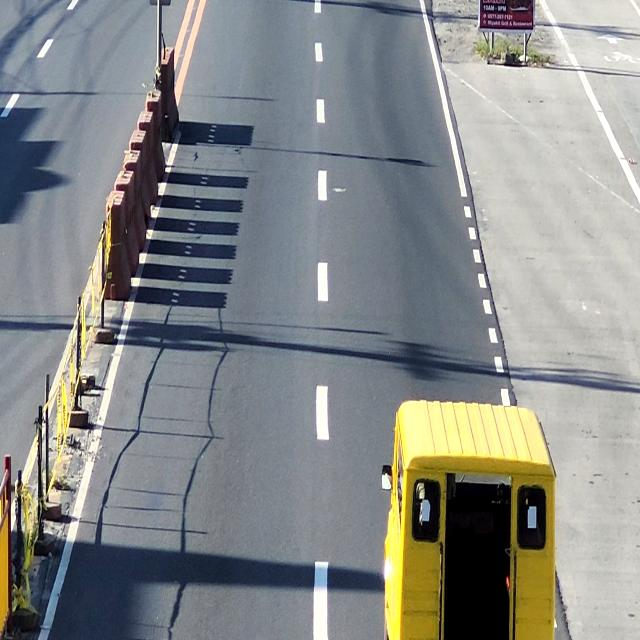Jeep: (382, 401, 560, 640)
